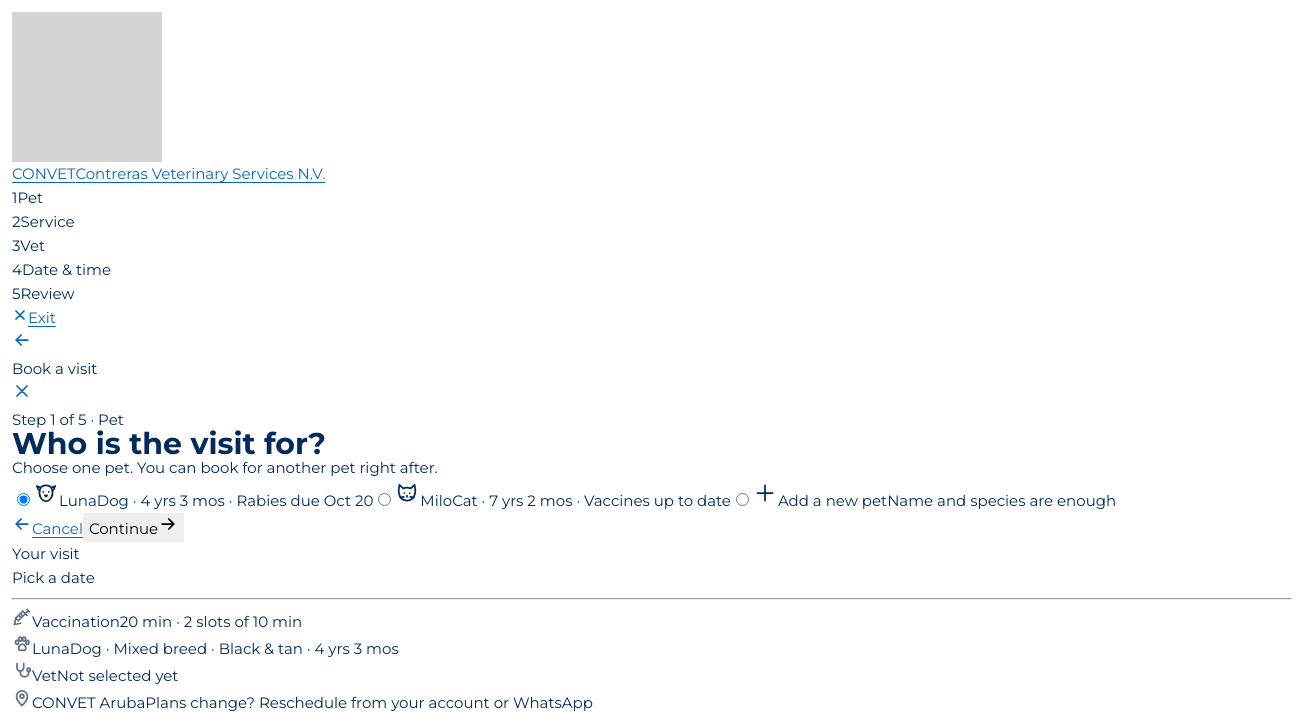
Test case: BookingFlow › starts with the service chosen when it comes from a service page
The image size is (1304, 712).
Click the button "Continue" next to "Cancel" at (134, 528), box [83,513,184,542]
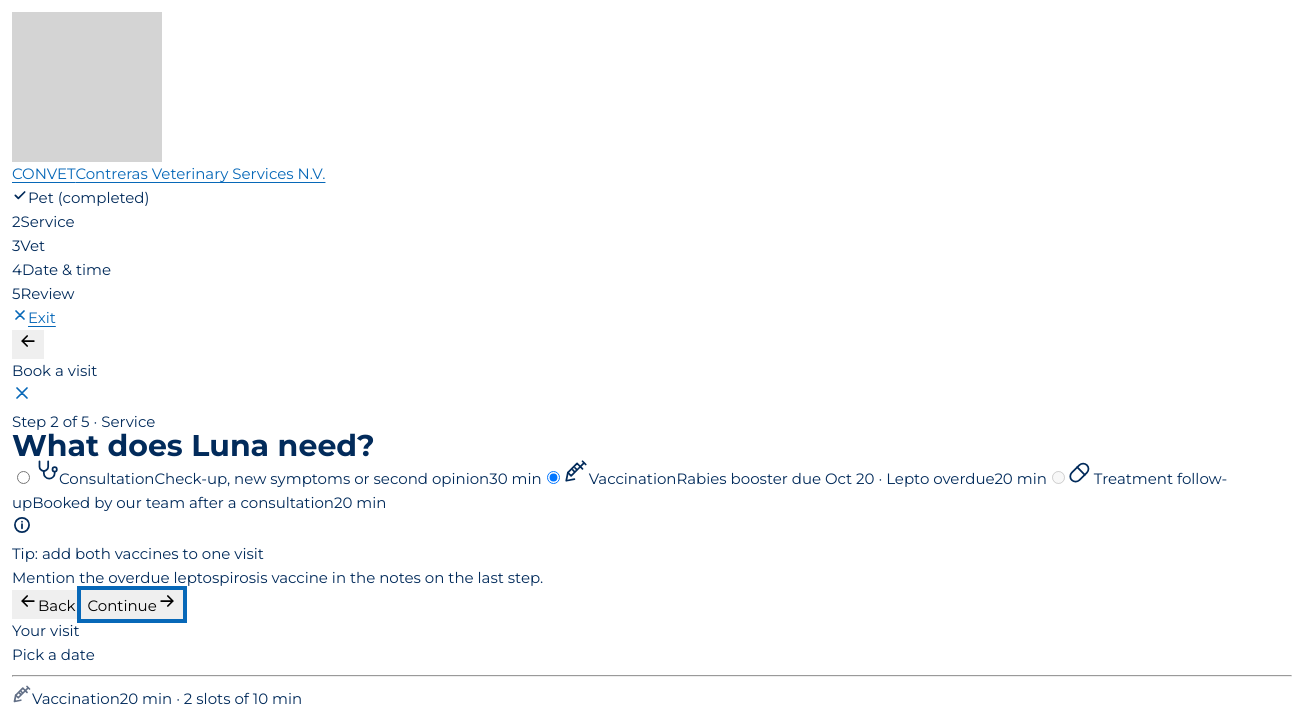
Expected: the button "Continue" is enabled, [82,590,183,619]
Now the radio button labelled "Vaccination" is checked, box [547,471,560,484]
